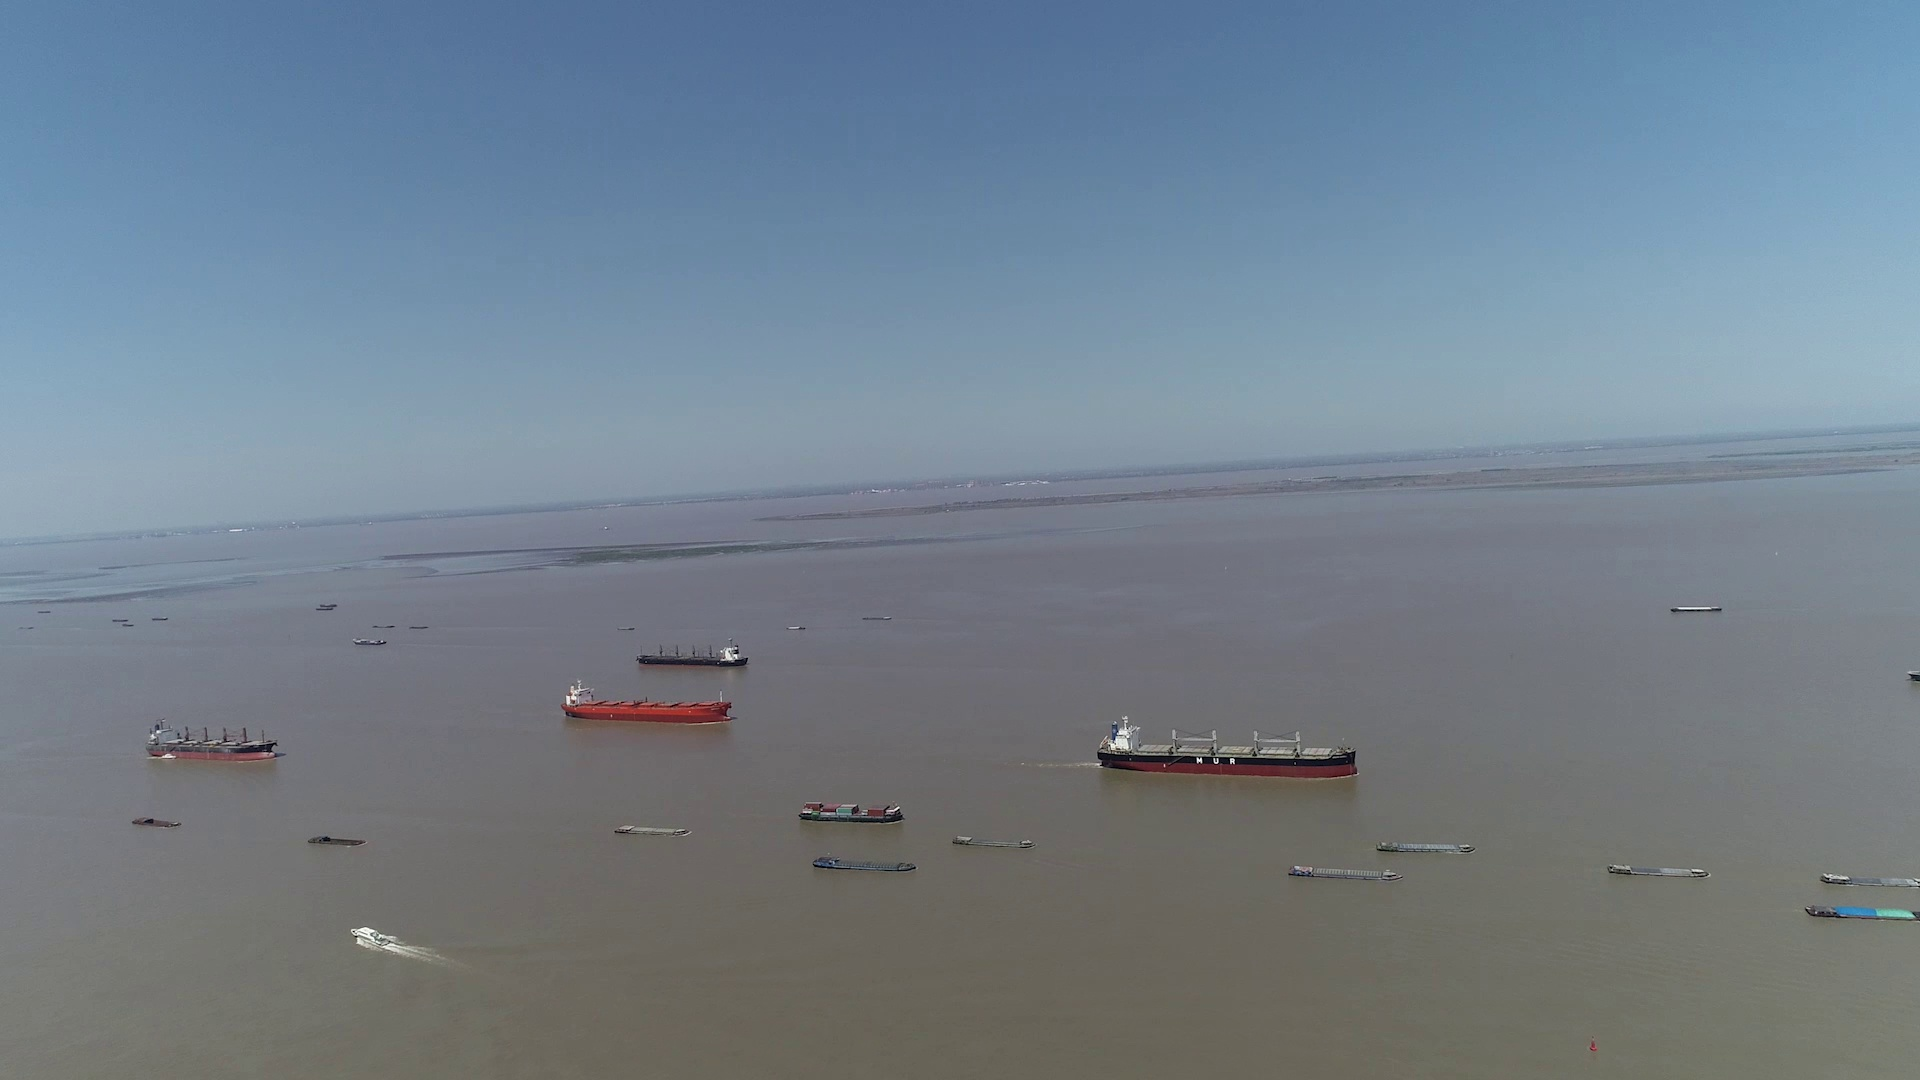ship: (1096, 716, 1360, 781), (562, 680, 728, 724), (149, 717, 277, 761), (636, 640, 748, 667), (1803, 901, 1917, 920), (796, 800, 902, 822), (1284, 865, 1402, 882), (812, 855, 915, 873), (1607, 862, 1709, 880), (1820, 869, 1913, 887), (1375, 837, 1476, 853), (351, 924, 402, 953), (953, 833, 1033, 849), (613, 823, 687, 836), (307, 836, 368, 848), (132, 815, 179, 828), (1668, 605, 1720, 612), (349, 637, 386, 645)
